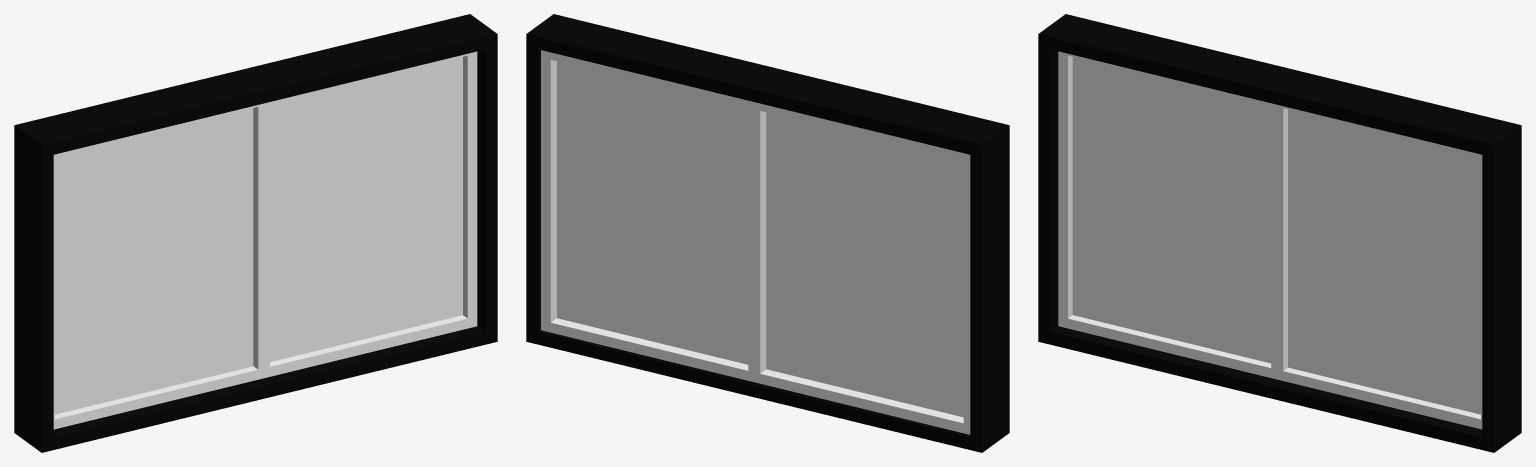
Rendered from wxD.fbx.
The picture shows the model from 3 angles, left to right: view 1: azimuth 30°, elevation 25°; view 2: azimuth 150°, elevation 25°; view 3: azimuth 330°, elevation 25°; orthographic projection.
Parts seen in each view (by area): view 1: glass, i; view 2: glass, i; view 3: glass, i.
Boxes of the visible parts, x1=… form: glass: x1=55, y1=57, x2=462, y2=414; i: x1=14, y1=14, x2=497, y2=452; glass: x1=557, y1=61, x2=963, y2=417; i: x1=526, y1=14, x2=1009, y2=452; glass: x1=1072, y1=57, x2=1480, y2=414; i: x1=1038, y1=14, x2=1521, y2=452.
Size of the model in its own units: 19.21 by 12.39 by 2.
